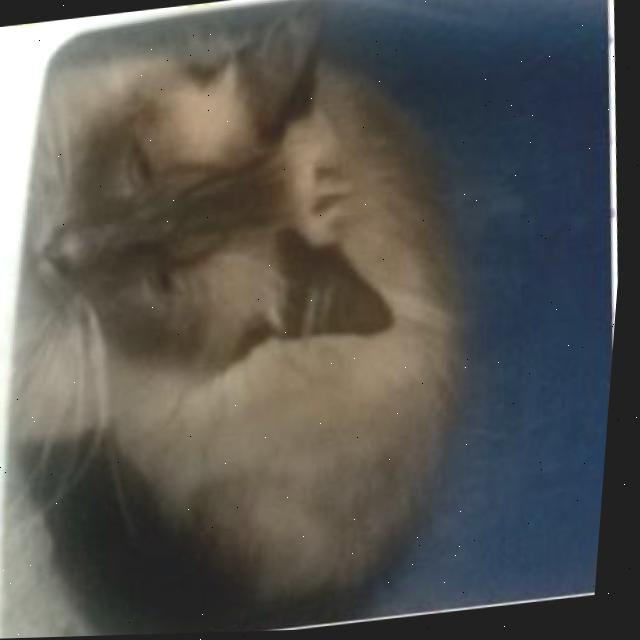Birman: (0, 0, 517, 640)
